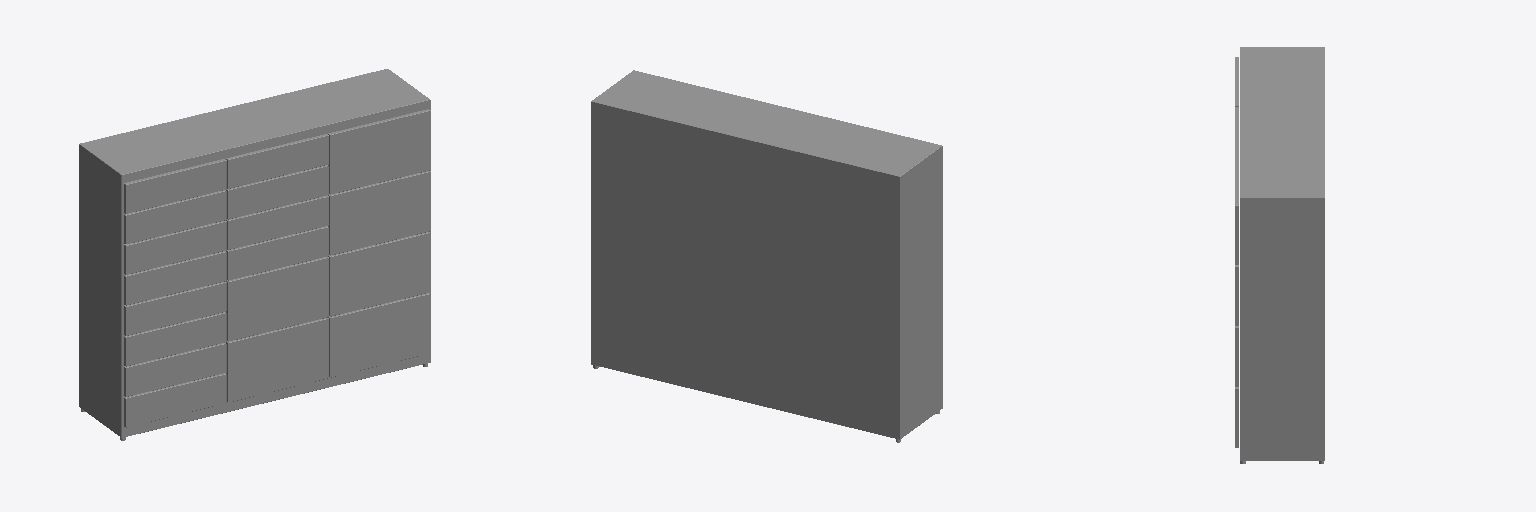
3 renders of one model, left to right at view 1: azimuth 30°, elevation 25°; view 2: azimuth 150°, elevation 25°; view 3: azimuth 270°, elevation 25°, orthographic.
Visible parts, largest first — view 1: oficina_armario_Cube.161; view 2: oficina_armario_Cube.161; view 3: oficina_armario_Cube.161.
Part boxes in pixels (x1,y1,x2,y2): oficina_armario_Cube.161: (79,69,430,440); oficina_armario_Cube.161: (591,70,942,442); oficina_armario_Cube.161: (1235,47,1324,463).
Size of the model in its own units: 2.12 by 1.75 by 0.535.